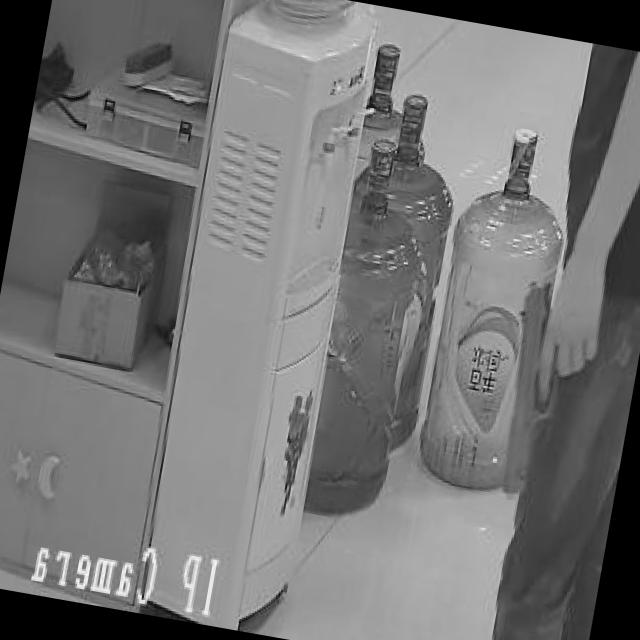Guns: (457, 264, 606, 517)
